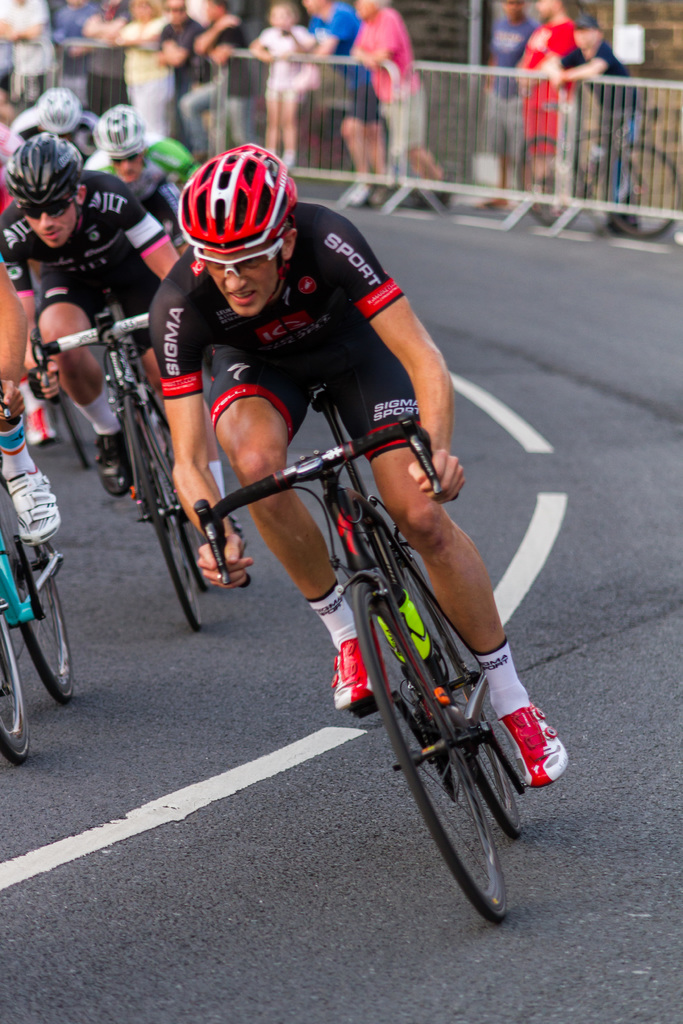Bike_toward: (105, 453, 649, 902)
